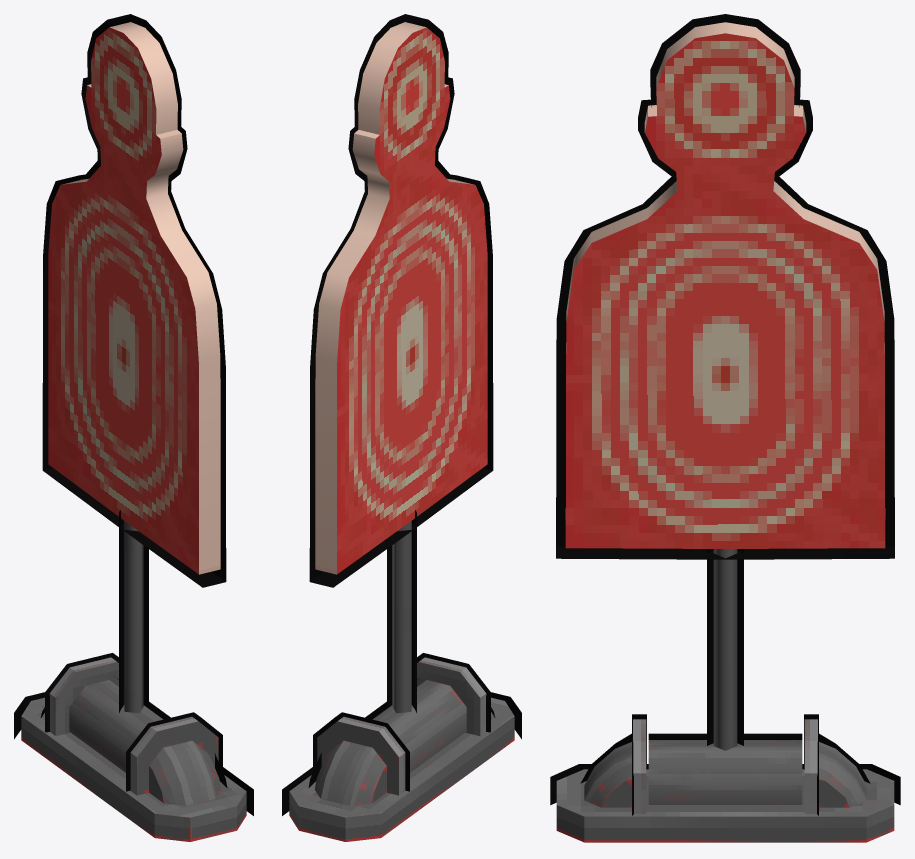
Rendered from RangeTarget.glb.
The picture shows the model from 3 angles, left to right: view 1: azimuth 30°, elevation 25°; view 2: azimuth 150°, elevation 25°; view 3: azimuth 270°, elevation 25°; orthographic projection. The views are drawn at different scales.
Visible parts, largest first — view 1: RangeTarget, RangeTargetBackFace; view 2: RangeTarget, RangeTargetBackFace; view 3: RangeTarget, RangeTargetBackFace.
Boxes of the visible parts, x1,y1,x2,y2 form: RangeTarget: (21, 22, 246, 841); RangeTargetBackFace: (14, 14, 253, 815); RangeTarget: (289, 22, 514, 841); RangeTargetBackFace: (282, 14, 521, 815); RangeTarget: (556, 22, 894, 842); RangeTargetBackFace: (550, 14, 900, 815).
Size of the model in its own units: 0.2421 by 1.72 by 0.6845.
Materials: 2 (1 with a texture image).
